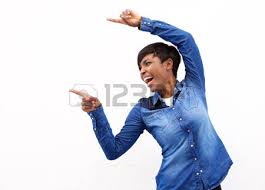hand: (64, 77, 118, 119)
